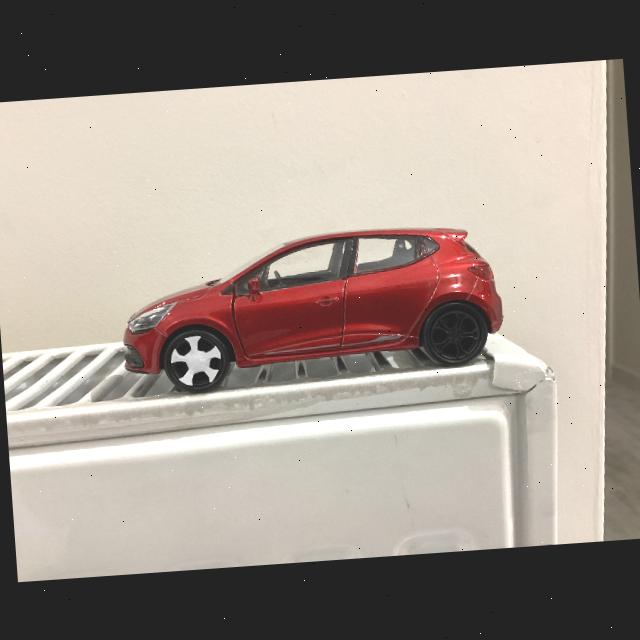Dogru_Jant: (428, 308, 482, 361)
Yanlis_Jant: (168, 334, 223, 388)
